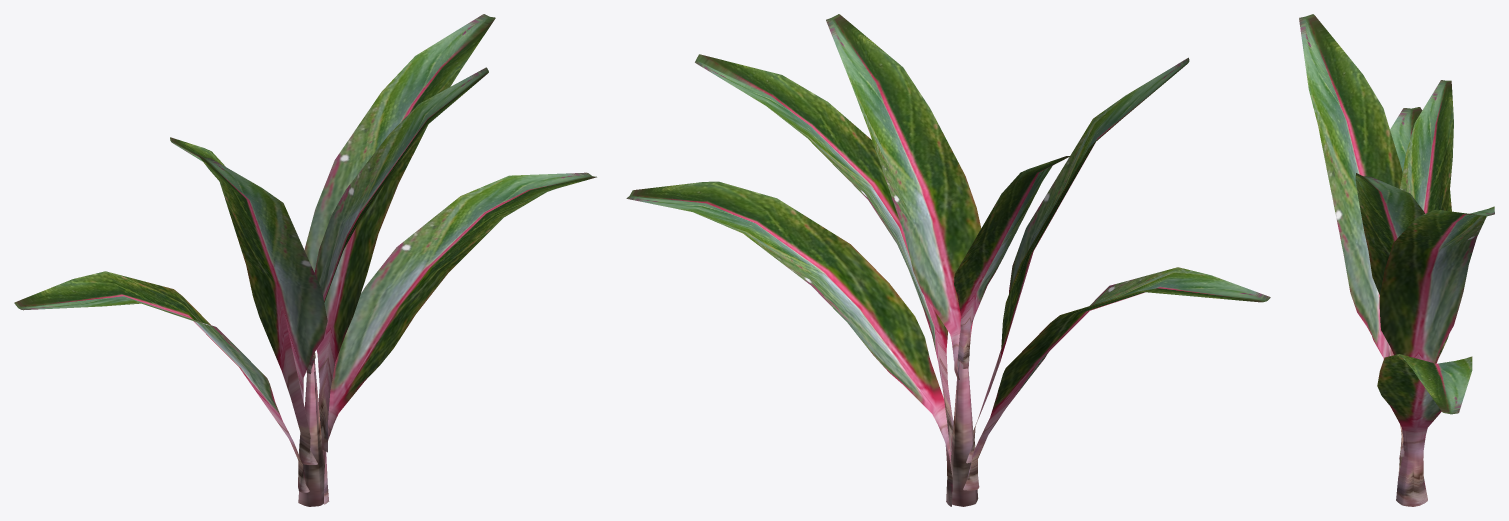
Rendered from IndoorPlant.fbx.
The picture shows the model from 3 angles, left to right: view 1: azimuth 30°, elevation 25°; view 2: azimuth 150°, elevation 25°; view 3: azimuth 270°, elevation 25°; orthographic projection. The views are drawn at different scales.
Visible parts, largest first — view 1: Leaf; view 2: Leaf; view 3: Leaf.
Boxes of the visible parts, bbox=[...] form: Leaf: bbox=[14, 14, 596, 506]; Leaf: bbox=[626, 14, 1270, 506]; Leaf: bbox=[1299, 14, 1494, 506].
Bounding box in the file's own units: 305 × 209 × 90.62.
2 materials, 2 textured.
